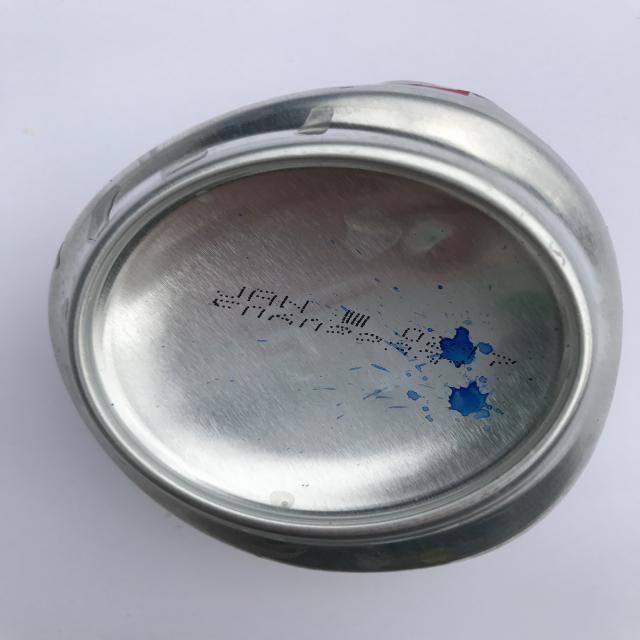metal: (48, 75, 628, 576)
